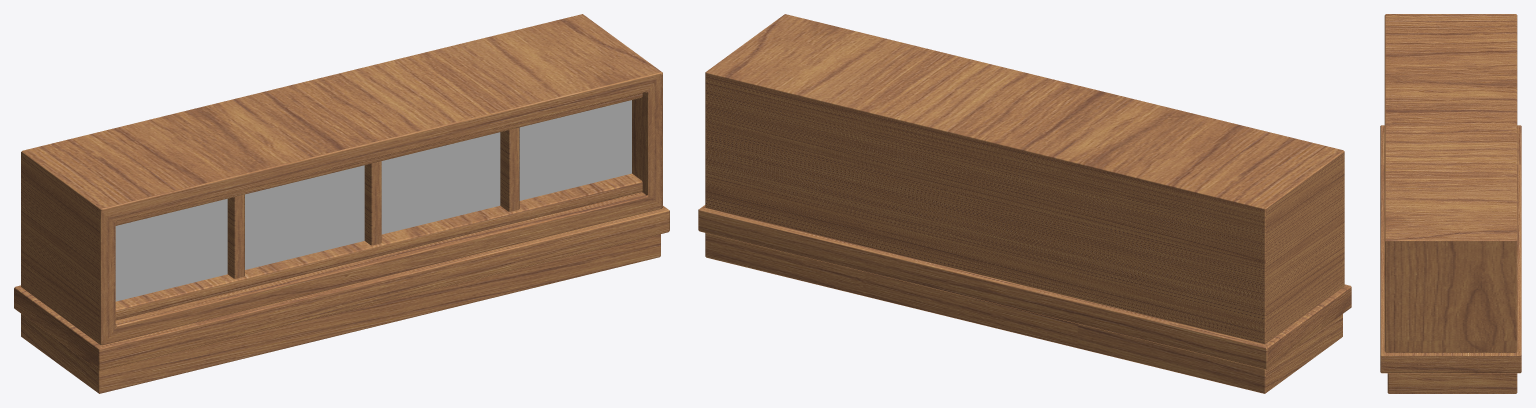
Rendered from SM_bookshelf_04.fbx.
3 views of the same model, side by side, from view 1: azimuth 30°, elevation 25°; view 2: azimuth 150°, elevation 25°; view 3: azimuth 270°, elevation 25° (orthographic). The views are drawn at different scales.
Parts seen in each view (by area): view 1: bookshelf04; view 2: bookshelf04; view 3: bookshelf04.
Part boxes in pixels (x1,y1,x2,y2): bookshelf04: (14,14,669,393); bookshelf04: (698,14,1351,393); bookshelf04: (1380,14,1521,393).
Size of the model in its own units: 94.43 by 29.49 by 24.55.
